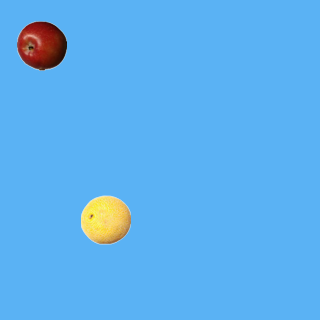Apple Braeburn: (16, 20, 66, 70)
Cantaloupe 1: (80, 194, 130, 244)
